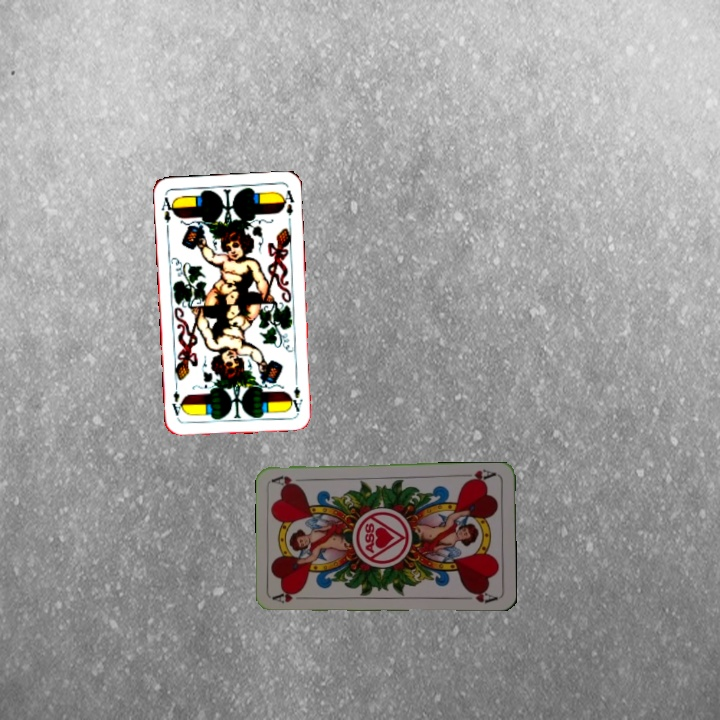EA: (287, 374, 305, 414), (157, 193, 177, 226)
HA: (459, 465, 499, 485), (271, 587, 311, 606)
